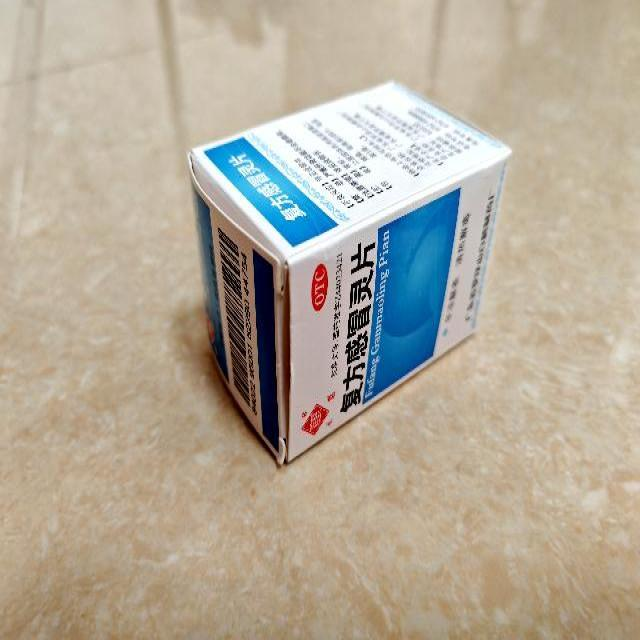box: (189, 78, 511, 466)
